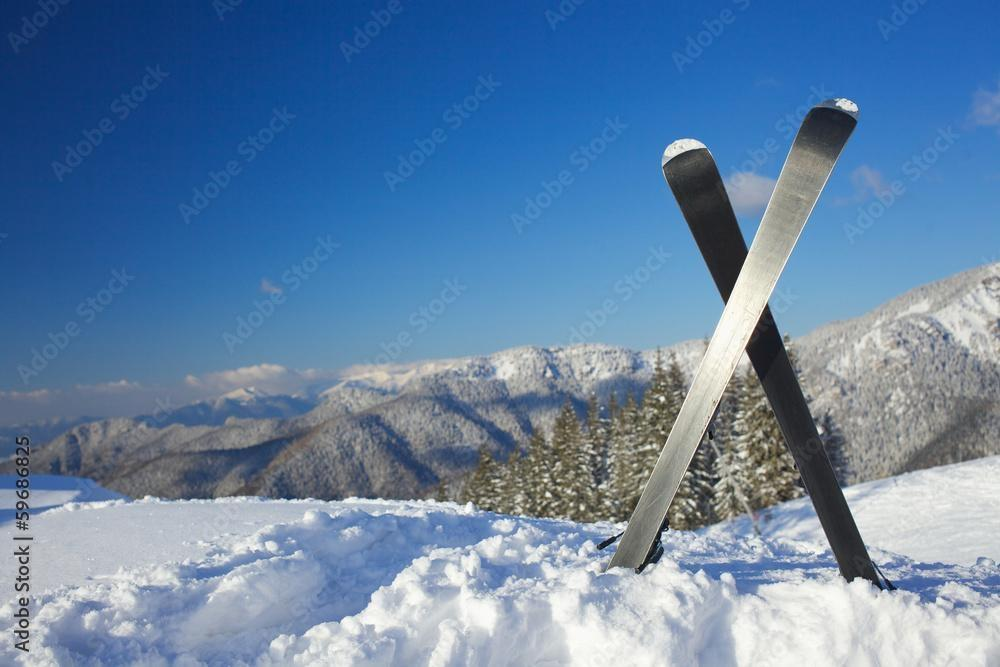Skis: (580, 77, 950, 624)
